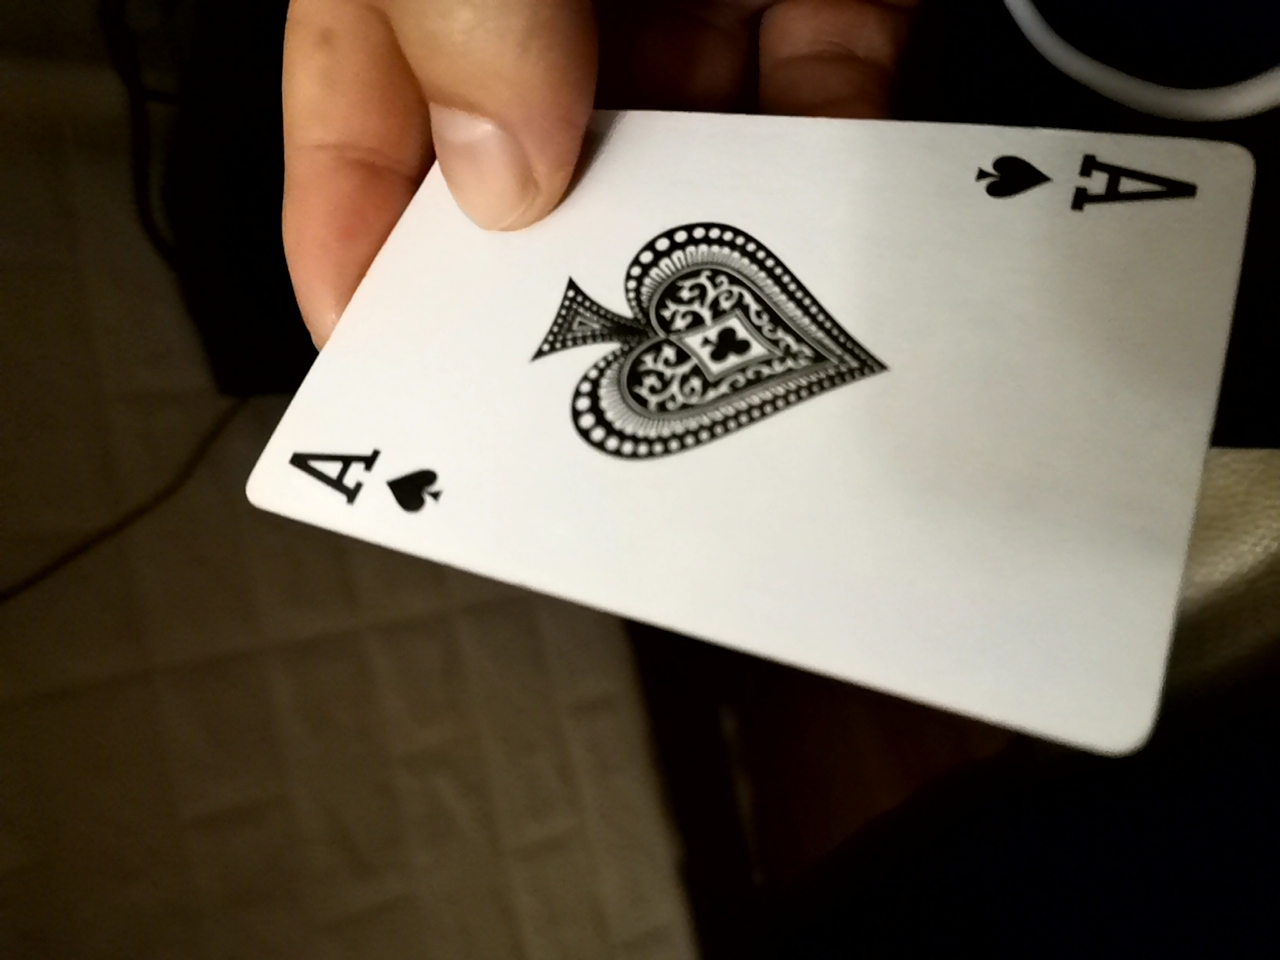ht a: (247, 98, 1256, 769)
